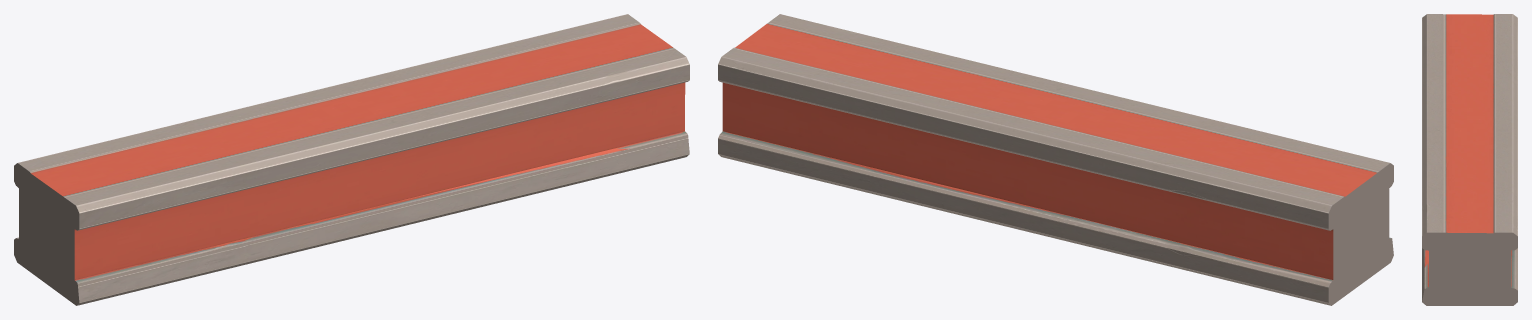
File: edge_coral.glb
The picture shows the model from 3 angles, left to right: view 1: azimuth 30°, elevation 25°; view 2: azimuth 150°, elevation 25°; view 3: azimuth 270°, elevation 25°; orthographic projection. The views are drawn at different scales.
Parts seen in each view (by area): view 1: edge_coral; view 2: edge_coral; view 3: edge_coral.
Part boxes in pixels (x1,y1,x2,y2): edge_coral: [14, 14, 689, 305]; edge_coral: [718, 14, 1393, 305]; edge_coral: [1422, 14, 1517, 305].
Bounding box in the file's own units: 2.8 × 0.4382 × 0.519.
Materials: 1 (1 with a texture image).
